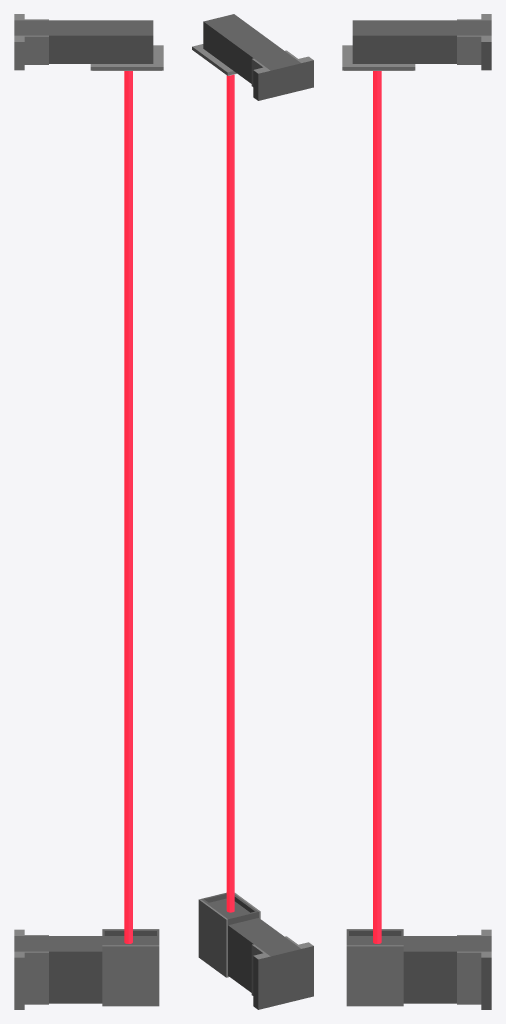
The model's file is light_barrier.glb.
3 views of the same model, side by side, from view 1: azimuth 90°, elevation 25°; view 2: azimuth 210°, elevation 25°; view 3: azimuth 270°, elevation 25° (orthographic). The views are drawn at different scales.
Visible parts, largest first — view 1: mounting_feets, light_beam; view 2: mounting_feets, light_beam; view 3: mounting_feets, light_beam.
Part boxes in pixels (x1,y1,x2,y2): mounting_feets: (14,14,163,1009); light_beam: (124,71,132,943); mounting_feets: (192,14,313,1009); light_beam: (226,74,234,912); mounting_feets: (342,14,491,1009); light_beam: (373,71,381,943).
Bounding box in the file's own units: 0.029 × 0.4675 × 0.0654.
